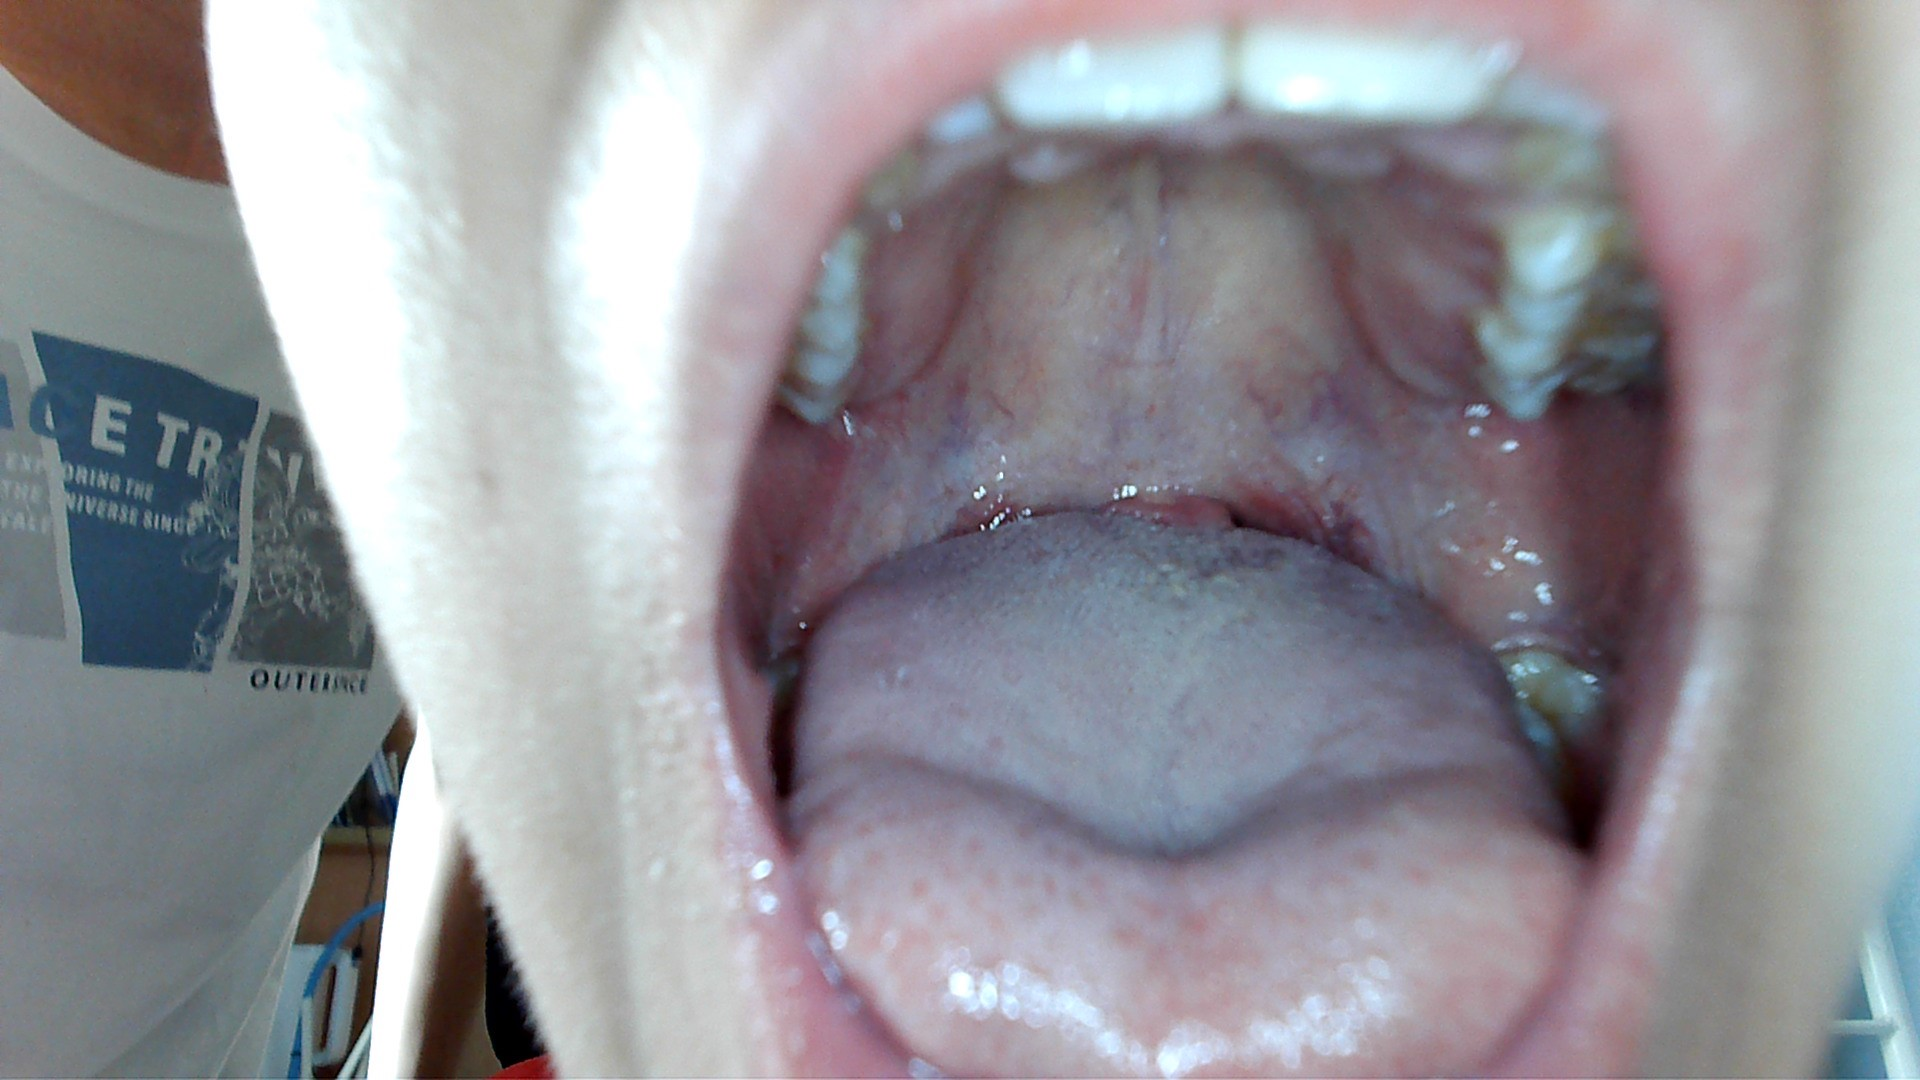throat: (1222, 464, 1398, 572)
